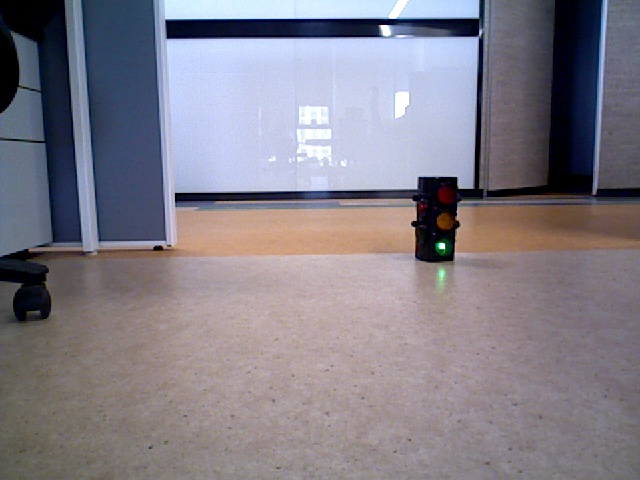green: (419, 177, 453, 258)
